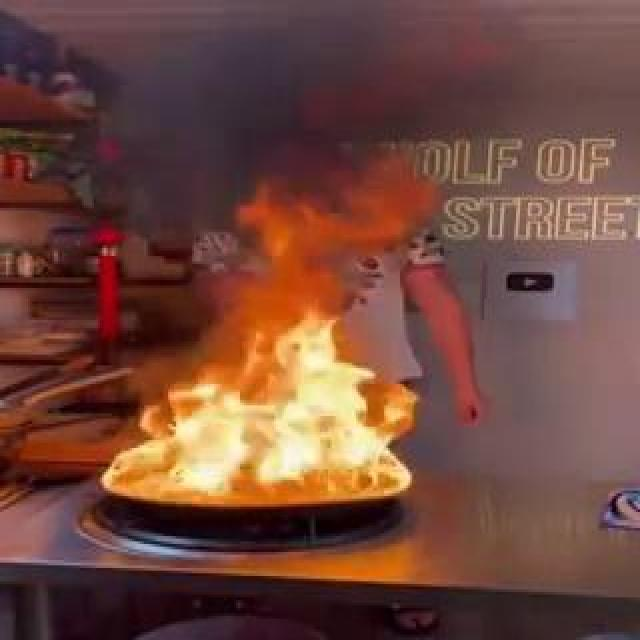Fire: (267, 318, 368, 356)
